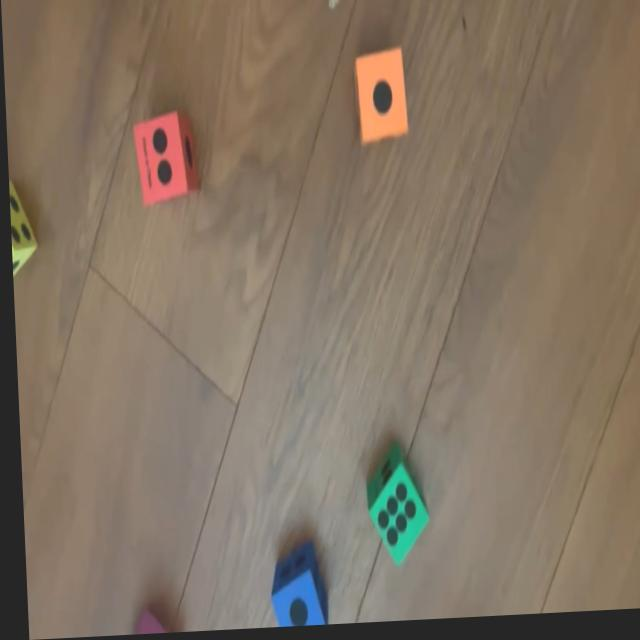cube: (362, 443, 424, 569), (131, 111, 196, 208), (264, 546, 322, 630)
